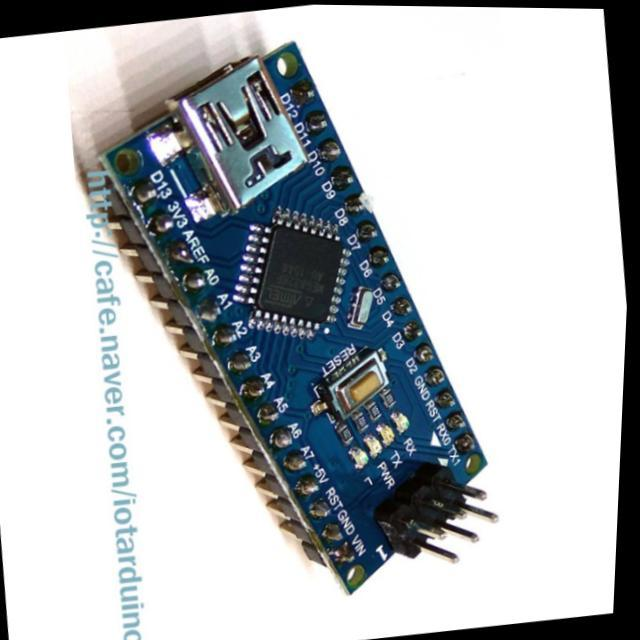Arduino-Nano: (104, 44, 495, 593)
